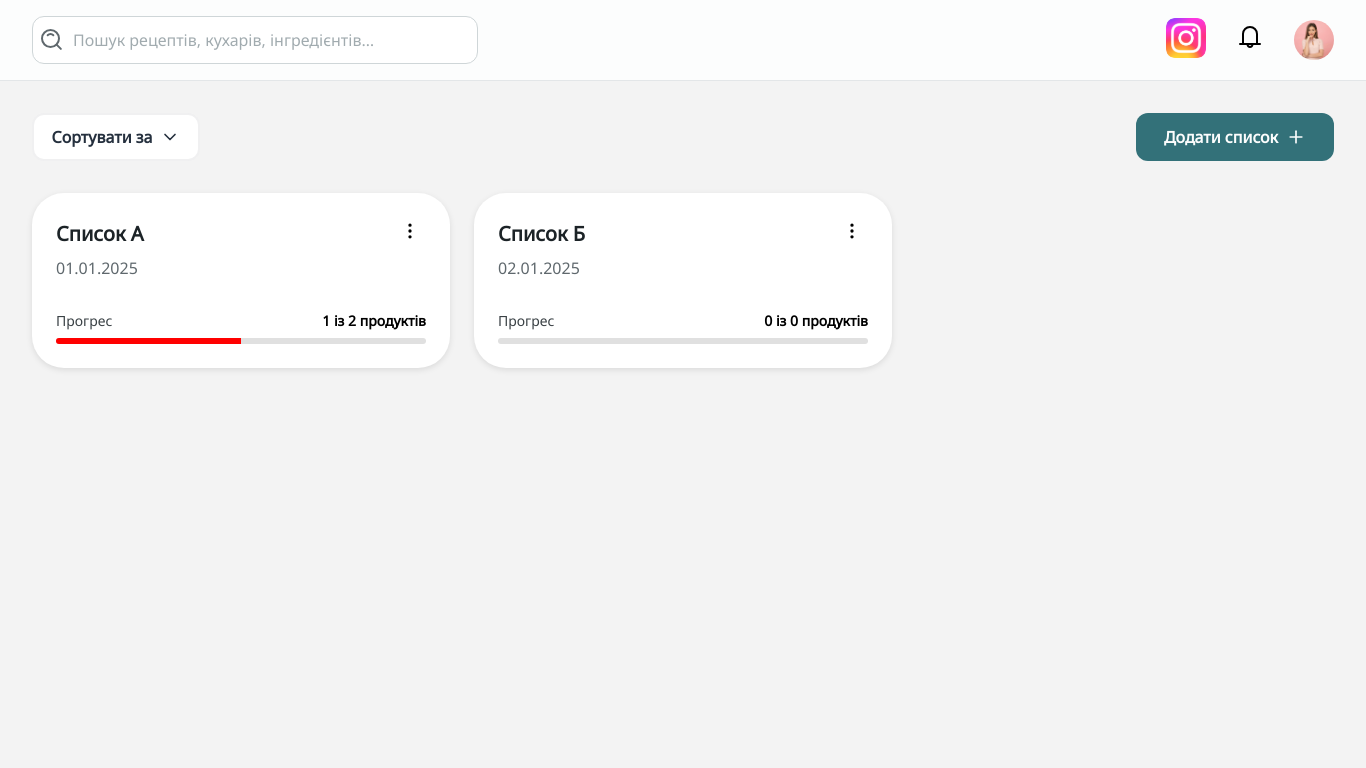
Test case: ShoppingListPage › открывает модальное окно создания нового списка
Click the button "Додати список" at (1235, 137), box [1136,113,1334,161]
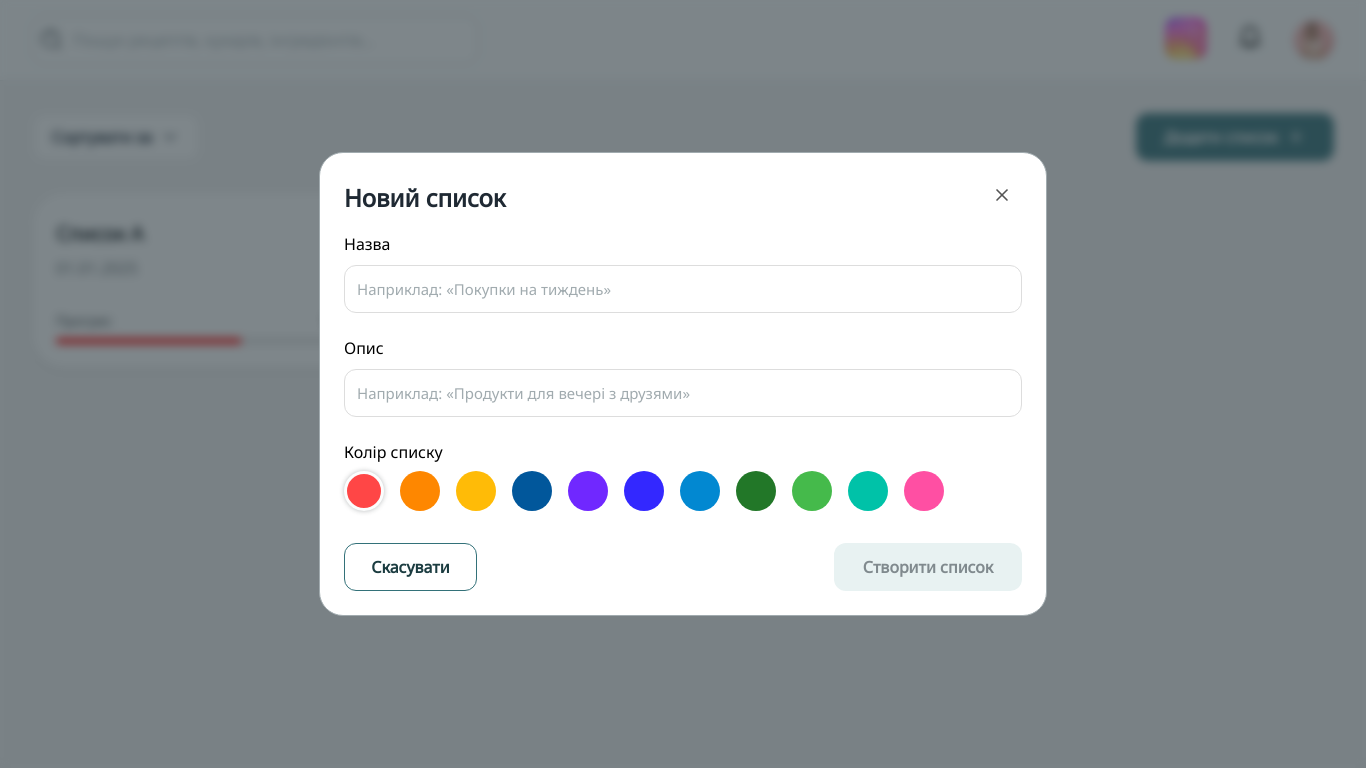
Expected: the heading "Новий список" is shown, [344,180,506,214]
